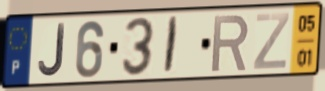3: (120, 15, 157, 78)
6: (73, 18, 106, 80)
I: (161, 14, 181, 77)
J: (36, 21, 67, 79)
R: (209, 13, 251, 75)
Z: (251, 10, 292, 71)
